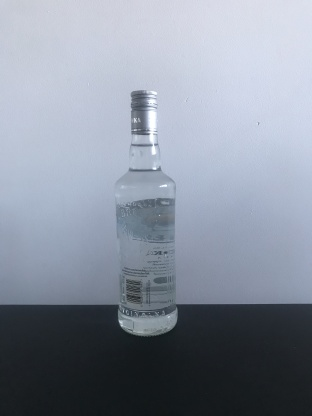nakretka: (129, 88, 159, 137)
